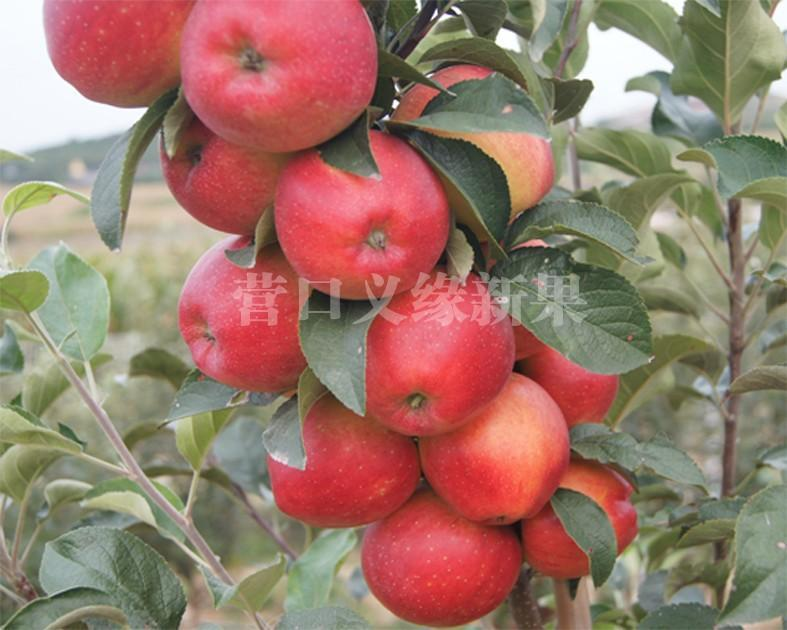apple: (177, 1, 377, 161), (385, 62, 552, 244), (268, 132, 452, 297), (360, 280, 512, 437), (420, 368, 570, 525), (263, 389, 420, 533), (358, 492, 521, 628), (175, 239, 309, 398), (42, 1, 192, 109), (160, 119, 284, 239), (522, 458, 638, 579)
